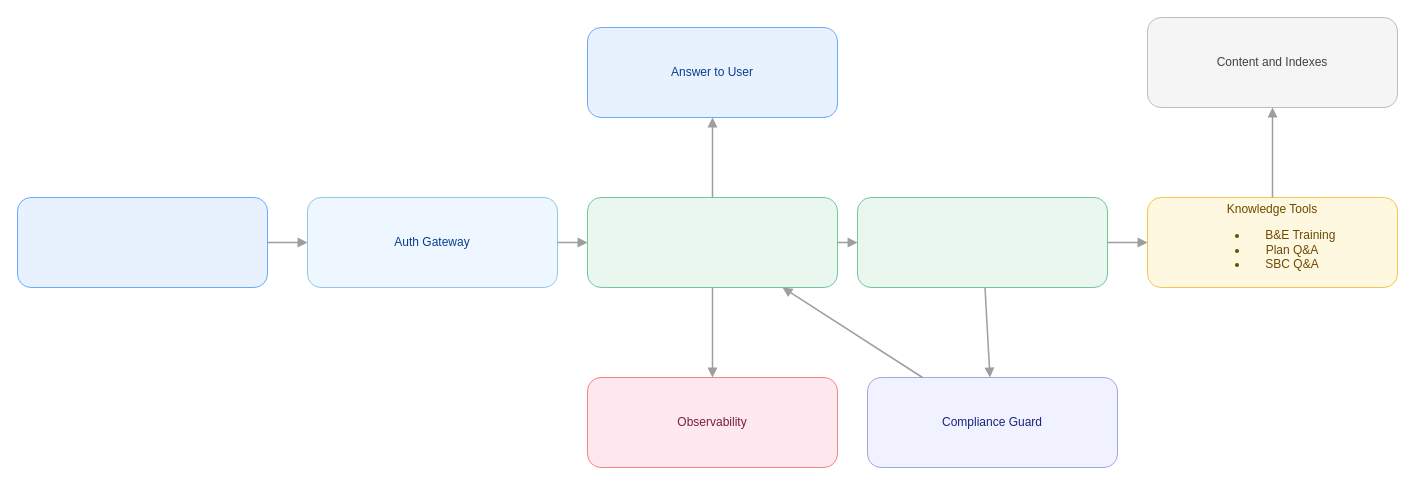
The diagram is 1415 pixels wide and 485 high, and some of its shapes have lost their labels. The shapes that lost their labels are listed below. From the top down, each one's box as (x1, y1, x2, y2) in pixels, then its label:
(16, 196, 268, 288): User Channel
(586, 196, 838, 288): Router Agent
(856, 196, 1108, 288): Knowledge Orchestrator
